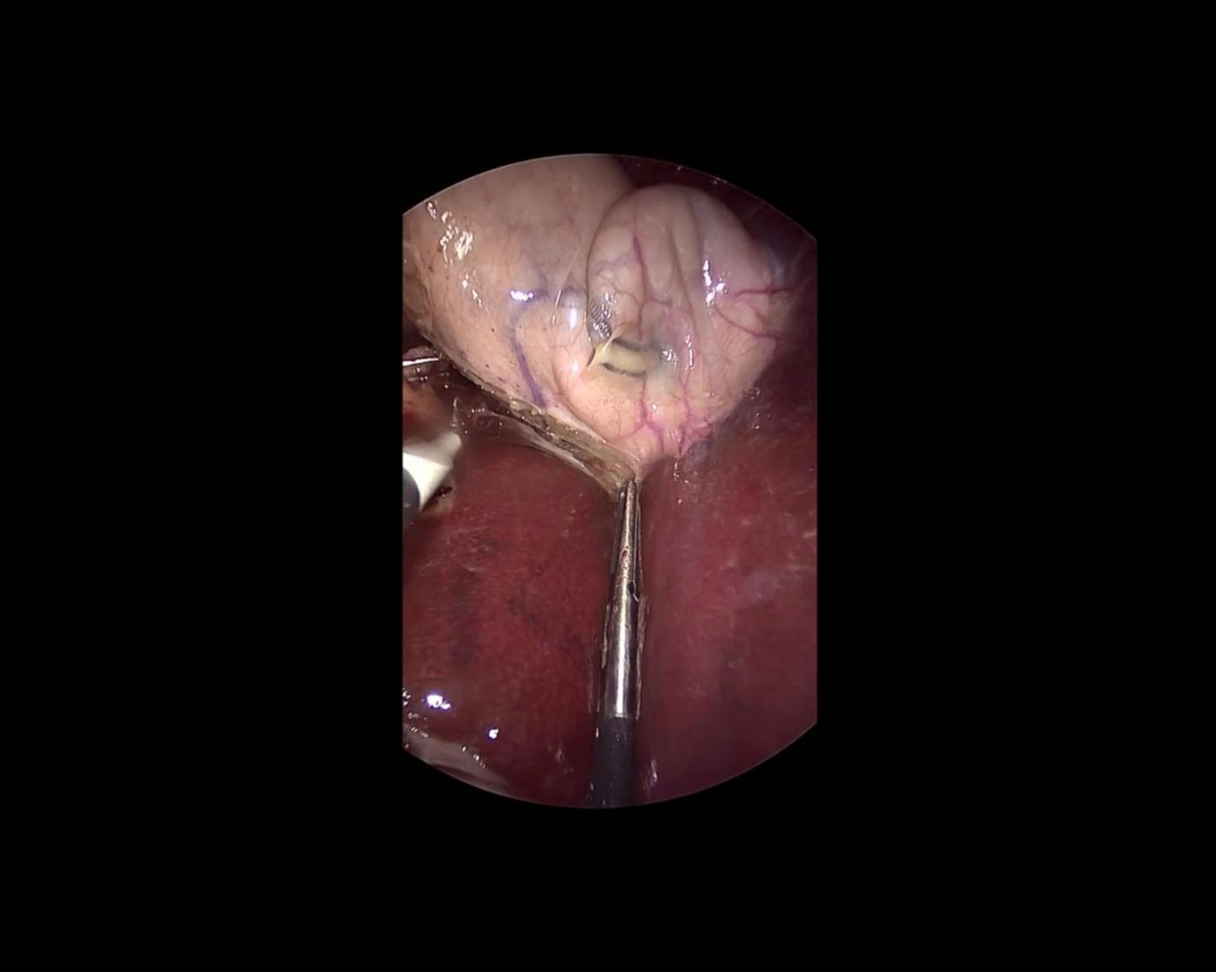Cautery: (363, 408, 471, 536)
Forceps: (586, 479, 642, 811)
Gallbladder: (347, 64, 825, 506)
Liver: (399, 238, 816, 806)
